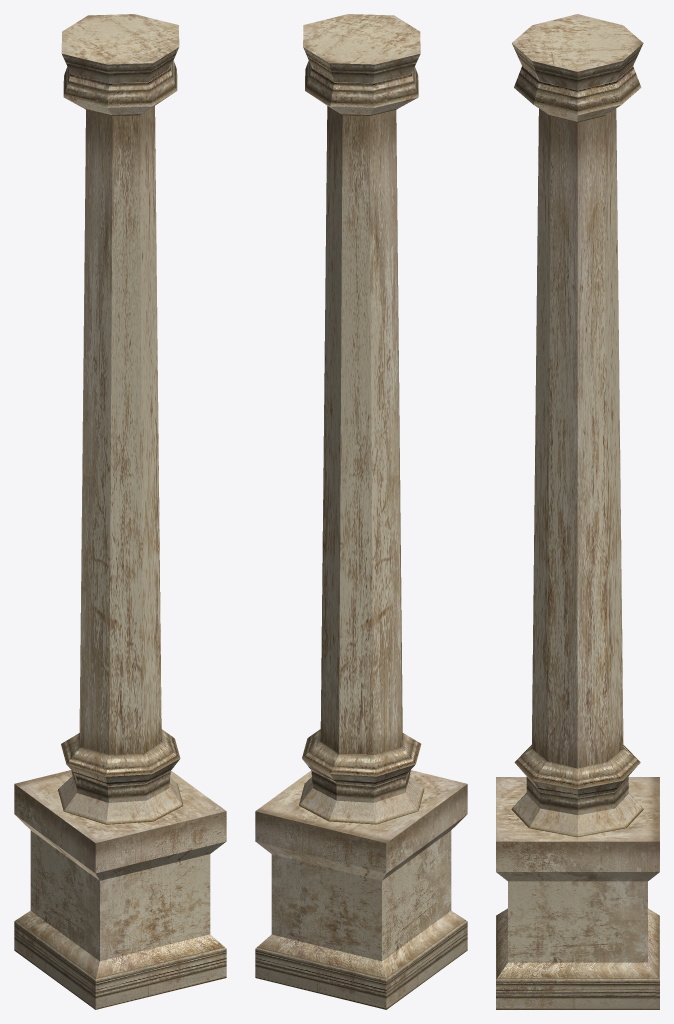
The model's file is svspartapillar2.dae.
The picture shows the model from 3 angles, left to right: view 1: azimuth 30°, elevation 25°; view 2: azimuth 150°, elevation 25°; view 3: azimuth 270°, elevation 25°; orthographic projection.
Parts seen in each view (by area): view 1: cylinder4_sep48-0; view 2: cylinder4_sep48-0; view 3: cylinder4_sep48-0.
Boxes of the visible parts, <box> form: cylinder4_sep48-0: <box>14,14,226,1009</box>; cylinder4_sep48-0: <box>255,14,467,1009</box>; cylinder4_sep48-0: <box>496,14,659,1009</box>.
Bounding box in the file's own units: 88.93 × 599 × 95.33.
